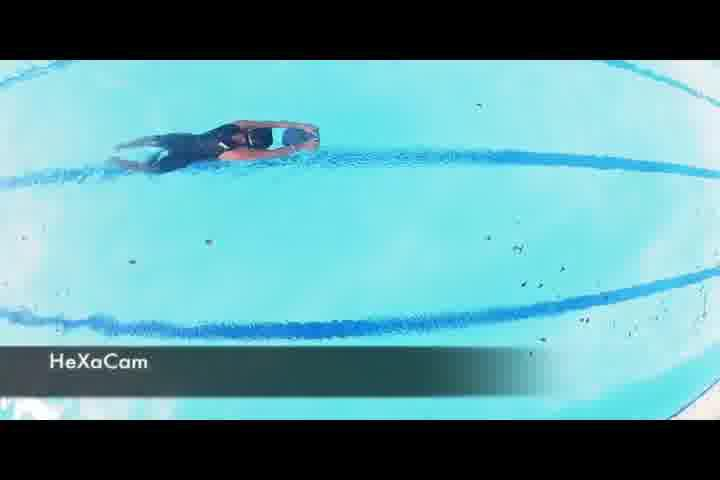swimmer: (103, 118, 324, 180)
